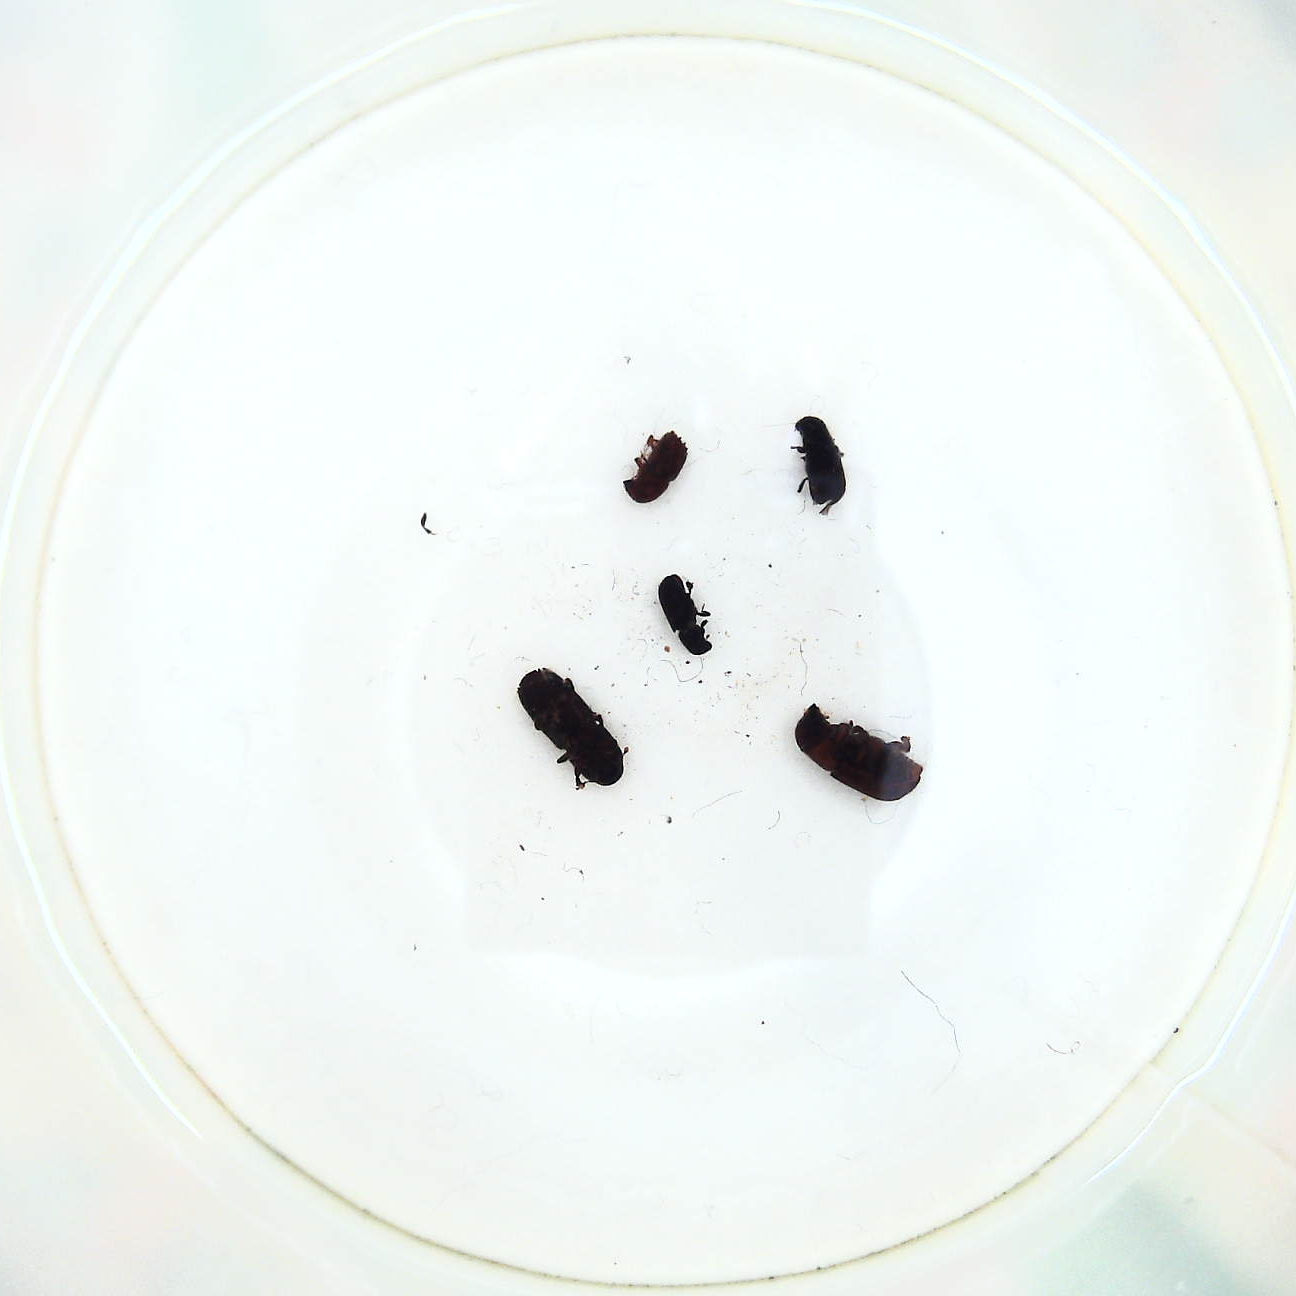Boerner: (510, 665, 630, 792)
Leconte: (790, 697, 925, 809)
armandi: (790, 409, 847, 519)
coleoptera: (652, 574, 718, 660)
linnaeus: (620, 431, 691, 509)
